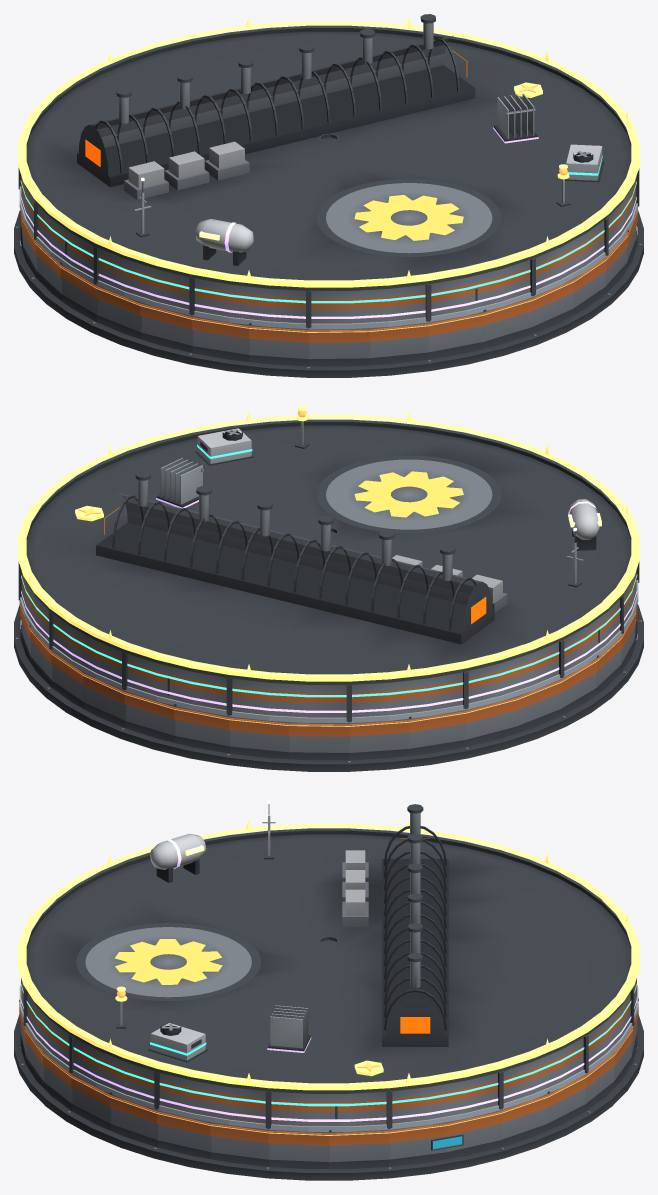
Rendered from ceramics_kiln_l.glb.
The picture shows the model from 3 angles, top to bottom: view 1: azimuth 30°, elevation 25°; view 2: azimuth 150°, elevation 25°; view 3: azimuth 270°, elevation 25°; orthographic projection.
Visible parts, largest first — view 1: Roof, Base, L4, Wall_21, Wall_20, Wall_22, Wall_19, Wall_23, Wall_18, Wall_24, Upper_21, Upper_22 (+26 smaller); view 2: Roof, Base, L4, Wall_10, Wall_11, Wall_09, Wall_12, Wall_08, Wall_13, Wall_07, Upper_10, Upper_09 (+25 smaller); view 3: Roof, Base, L4, Wall_31, Wall_00, Wall_30, Wall_01, Wall_29, Wall_02, Upper_31, Upper_00, Wall_28 (+25 smaller).
Part boxes in pixels (x1=…): Roof: x1=25, y1=14, x2=632, y2=290; Base: x1=14, y1=210, x2=643, y2=377; L4: x1=195, y1=93, x2=538, y2=265; Wall_21: x1=308, y1=328, x2=369, y2=366; Wall_20: x1=248, y1=323, x2=308, y2=366; Wall_22: x1=369, y1=322, x2=428, y2=365; Wall_19: x1=192, y1=316, x2=249, y2=361; Wall_23: x1=428, y1=312, x2=483, y2=359; Wall_18: x1=140, y1=302, x2=192, y2=353; Wall_24: x1=483, y1=297, x2=533, y2=348; Upper_21: x1=308, y1=290, x2=368, y2=327; Upper_22: x1=369, y1=284, x2=428, y2=322; Roof: x1=25, y1=419, x2=632, y2=684; Base: x1=14, y1=604, x2=643, y2=771; L4: x1=156, y1=458, x2=601, y2=550; Wall_10: x1=288, y1=722, x2=349, y2=760; Wall_11: x1=349, y1=718, x2=409, y2=760; Wall_09: x1=229, y1=716, x2=288, y2=759; Wall_12: x1=408, y1=710, x2=465, y2=755; Wall_08: x1=174, y1=704, x2=229, y2=753; Wall_13: x1=465, y1=696, x2=517, y2=746; Wall_07: x1=124, y1=691, x2=174, y2=742; Upper_10: x1=289, y1=684, x2=349, y2=721; Upper_09: x1=229, y1=678, x2=288, y2=716; Roof: x1=25, y1=804, x2=632, y2=1093; Base: x1=14, y1=1015, x2=643, y2=1180; L4: x1=150, y1=833, x2=311, y2=1052; Wall_31: x1=268, y1=1129, x2=328, y2=1168; Wall_00: x1=329, y1=1129, x2=389, y2=1168; Wall_30: x1=210, y1=1122, x2=268, y2=1166; Wall_01: x1=389, y1=1122, x2=447, y2=1166; Wall_29: x1=157, y1=1110, x2=210, y2=1158; Wall_02: x1=447, y1=1110, x2=500, y2=1158; Upper_31: x1=268, y1=1091, x2=328, y2=1128; Upper_00: x1=329, y1=1091, x2=389, y2=1128; Wall_28: x1=110, y1=1092, x2=157, y2=1147.
Bounding box in the file's own units: 18.96 × 5.35 × 18.96.
